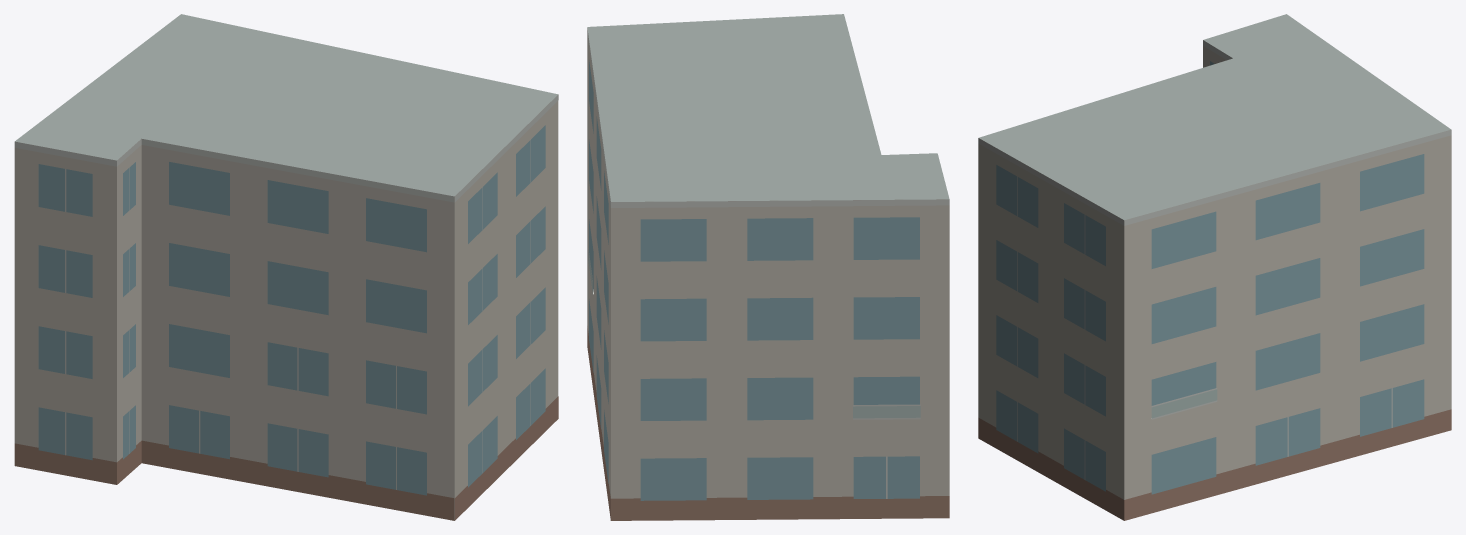
File: survey-upis-32530186.glb
The picture shows the model from 3 angles, left to right: view 1: azimuth 30°, elevation 25°; view 2: azimuth 150°, elevation 25°; view 3: azimuth 270°, elevation 25°; orthographic projection. The views are drawn at different scales.
Visible parts, largest first — view 1: survey-upis-32530186.tmp; view 2: survey-upis-32530186.tmp; view 3: survey-upis-32530186.tmp.
Boxes of the visible parts, x1,y1,x2,y2 form: survey-upis-32530186.tmp: (14,14,558,520); survey-upis-32530186.tmp: (587,14,949,520); survey-upis-32530186.tmp: (978,14,1451,520).
Bounding box in the file's own units: 19 × 12.9 × 18.41.
